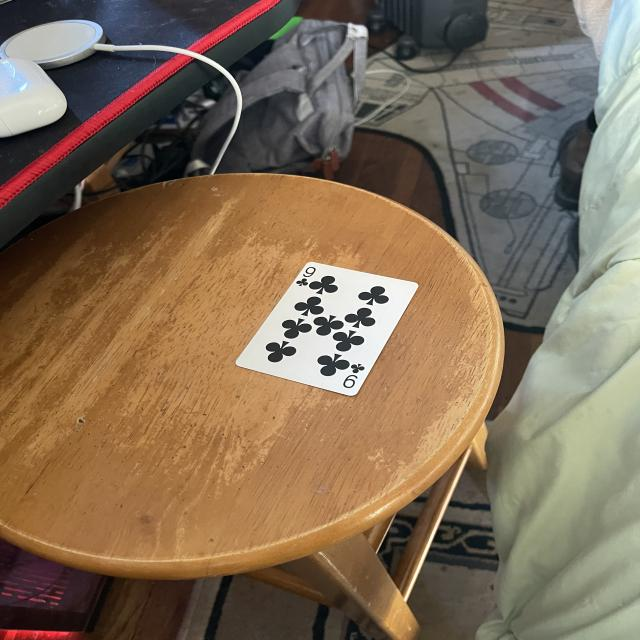9 of clubs: (256, 243, 436, 405)
